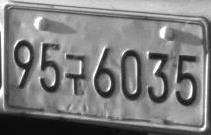0: (119, 49, 142, 101)
3: (146, 51, 169, 103)
5: (38, 42, 61, 93), (175, 54, 197, 106)
6: (92, 47, 116, 98)
9: (12, 38, 34, 89)
구: (64, 53, 86, 95)
